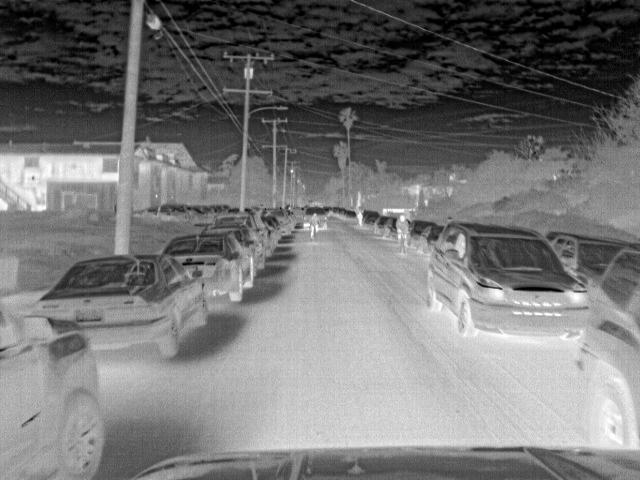car: (428, 220, 589, 344), (34, 253, 208, 359), (3, 308, 106, 478), (568, 242, 640, 449), (163, 234, 257, 302), (547, 235, 623, 292), (200, 226, 267, 272), (214, 212, 274, 257), (263, 207, 293, 237), (137, 206, 193, 222), (417, 225, 444, 253), (409, 221, 428, 246), (185, 207, 212, 223), (372, 216, 391, 235), (344, 210, 357, 222)
person: (394, 213, 408, 247), (355, 206, 367, 232), (309, 210, 321, 235)
